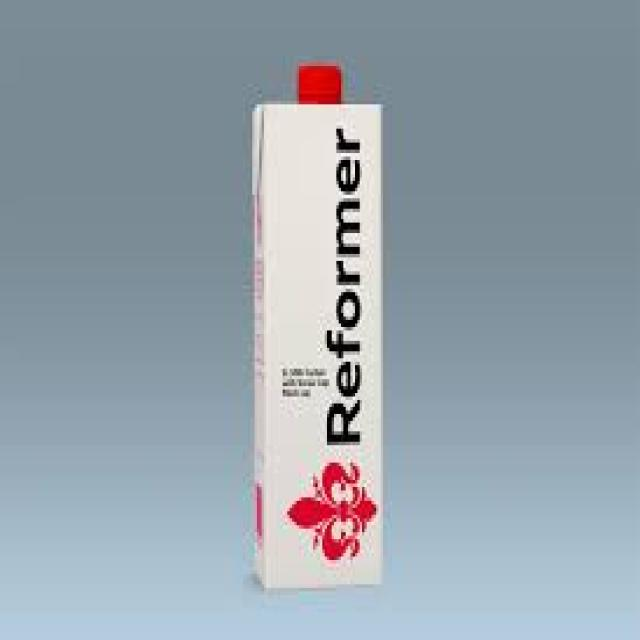cardboard: (248, 98, 381, 592)
plastic: (294, 59, 339, 98)
